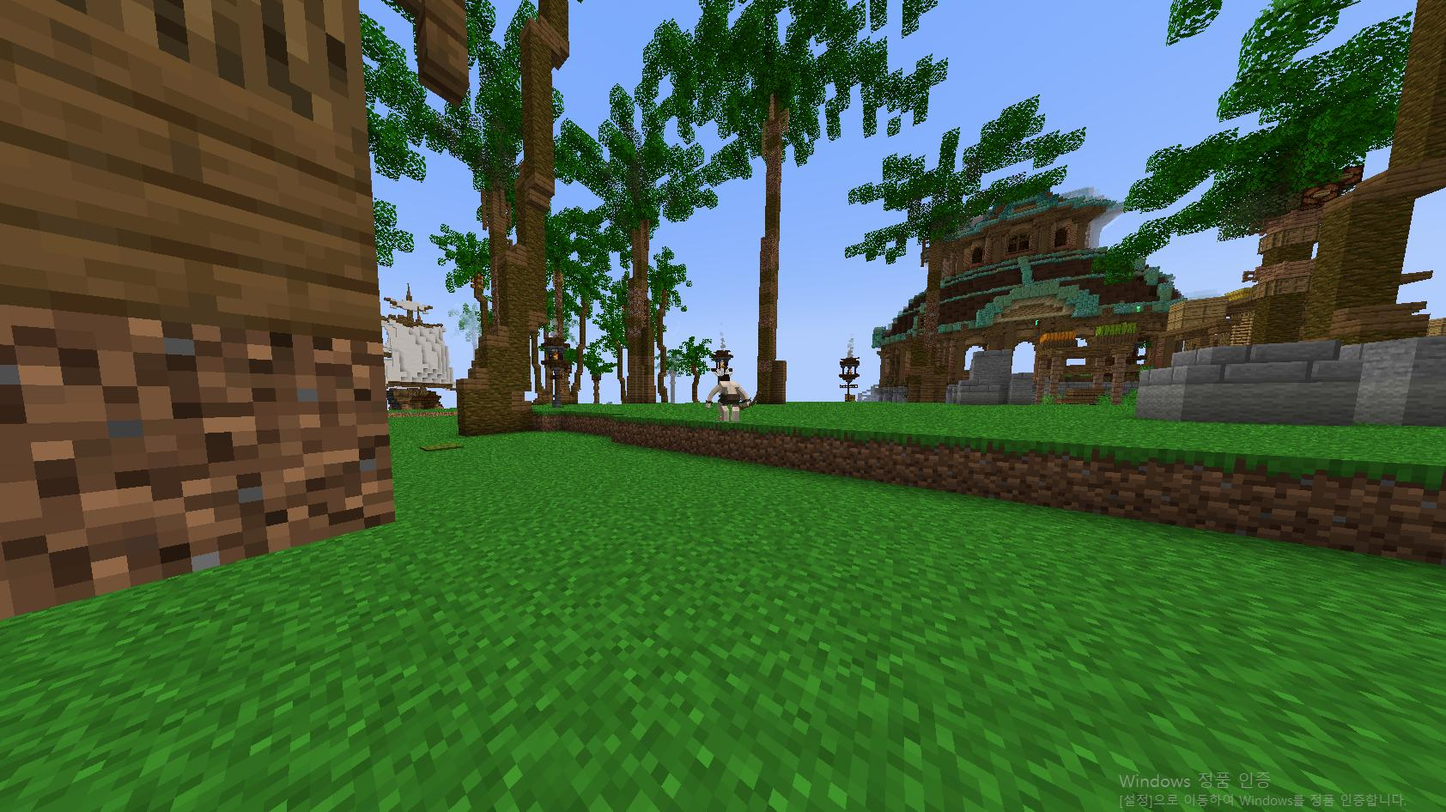bow_indian: (697, 359, 774, 440)
